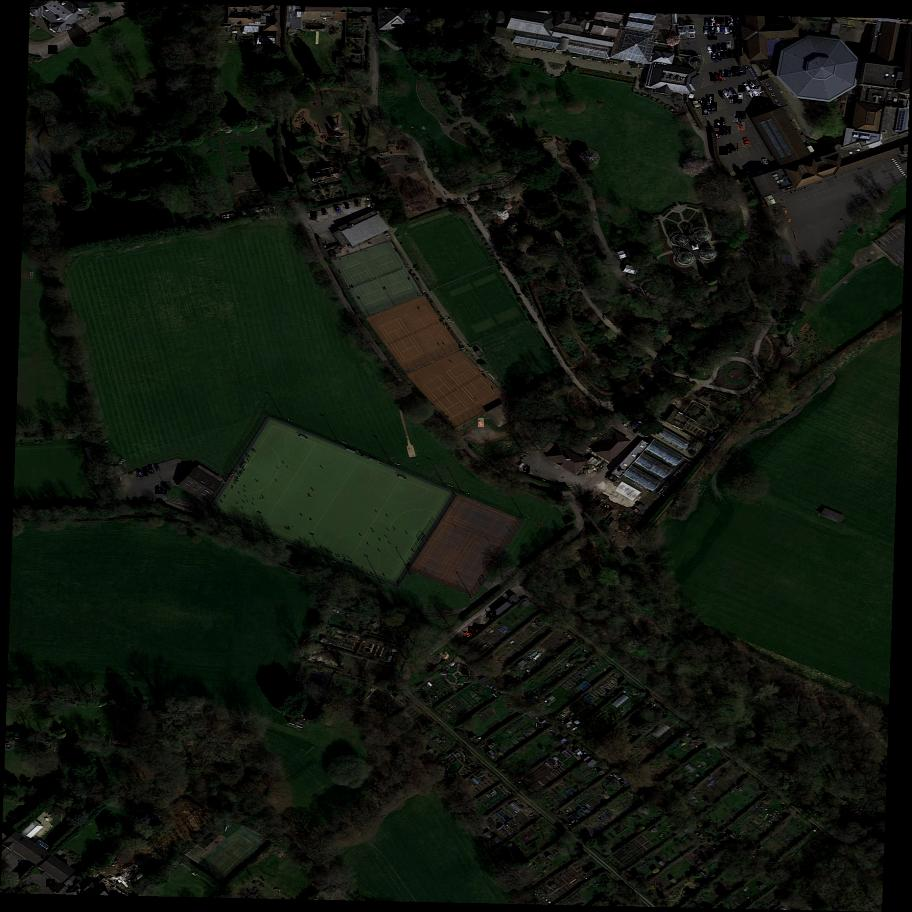small-vehicle: (161, 481, 172, 491), (736, 111, 747, 121), (719, 146, 729, 156), (732, 67, 742, 77), (485, 611, 496, 620), (49, 45, 58, 55), (748, 80, 757, 90), (733, 95, 742, 105), (156, 486, 167, 494), (724, 126, 733, 135), (718, 128, 727, 137), (730, 143, 739, 152), (715, 120, 724, 129), (737, 66, 746, 75), (723, 90, 732, 99), (742, 138, 750, 148), (473, 624, 484, 631), (46, 880, 55, 888), (333, 205, 341, 214), (464, 631, 472, 640), (181, 462, 189, 471), (711, 74, 719, 83), (752, 89, 760, 98), (718, 90, 726, 99), (743, 83, 751, 92), (704, 26, 711, 36), (479, 418, 486, 428), (18, 860, 28, 867), (310, 211, 317, 221), (469, 627, 477, 635), (722, 51, 729, 60), (758, 87, 765, 96), (721, 118, 728, 127), (715, 73, 722, 82), (702, 98, 709, 107), (706, 94, 713, 103), (739, 121, 745, 131), (355, 199, 362, 207), (762, 159, 770, 166), (724, 70, 731, 78), (698, 99, 705, 107), (730, 89, 737, 97), (725, 17, 731, 26), (722, 42, 728, 51), (726, 145, 732, 154), (729, 68, 735, 77), (703, 107, 709, 116), (343, 202, 350, 209), (570, 820, 577, 827), (708, 46, 714, 54), (322, 208, 328, 216), (745, 166, 751, 174), (721, 71, 727, 79), (739, 85, 745, 93), (137, 469, 143, 477), (100, 17, 111, 21), (719, 18, 725, 25), (717, 44, 723, 51), (711, 53, 717, 60), (753, 108, 759, 115), (707, 105, 713, 112), (730, 97, 736, 104), (748, 90, 754, 97), (721, 26, 726, 34), (712, 103, 717, 111), (710, 17, 715, 24), (525, 466, 530, 473), (149, 465, 154, 472), (739, 93, 744, 100), (731, 17, 735, 25), (728, 50, 732, 58), (734, 49, 738, 57), (734, 114, 738, 122), (704, 19, 709, 25), (717, 53, 722, 59), (711, 27, 715, 34), (727, 41, 731, 48), (708, 36, 717, 39), (726, 27, 729, 34), (144, 467, 147, 474), (715, 18, 718, 23), (717, 26, 720, 31), (712, 46, 715, 51), (731, 27, 733, 34), (715, 132, 718, 136), (760, 108, 763, 112)
